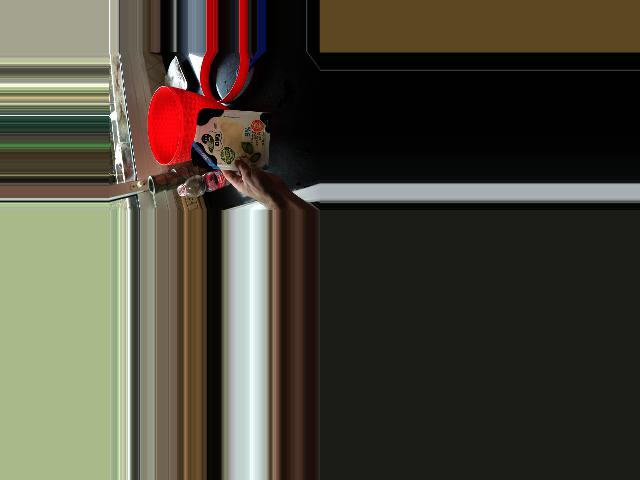cheese: (190, 108, 264, 185)
